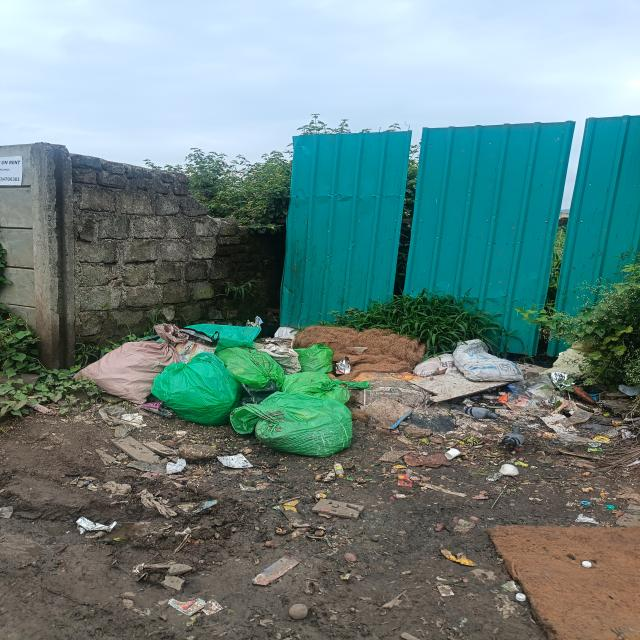garbage: (98, 321, 602, 457)
